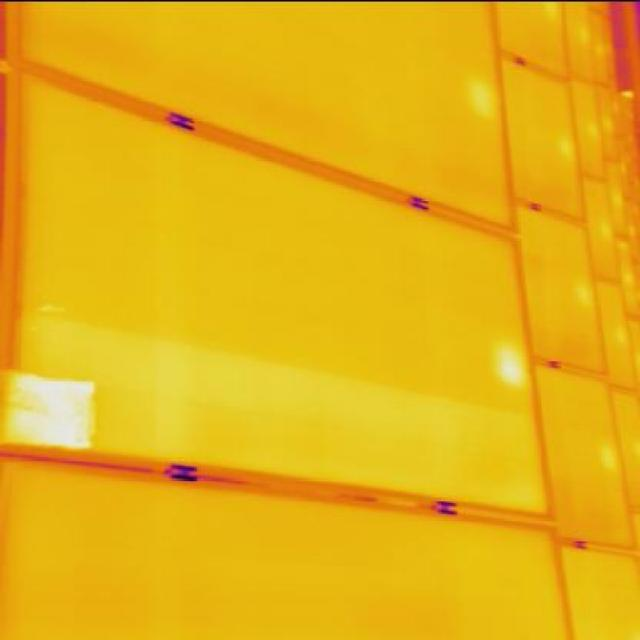hotspot: (0, 362, 111, 460)
